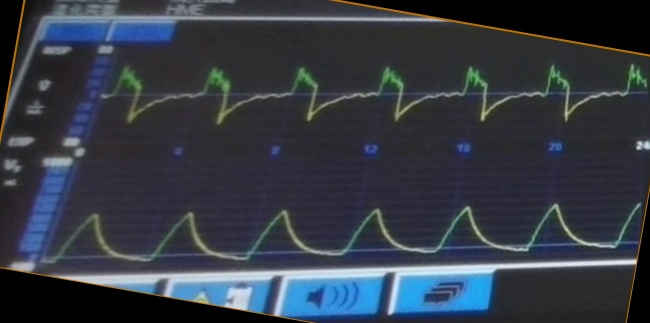Accumulation Flow: (115, 56, 646, 137)
Volume: (71, 178, 626, 260)
